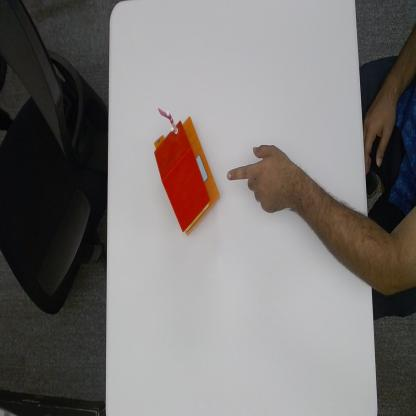Arm: (295, 166, 368, 302)
Hand: (228, 147, 295, 213)
House: (152, 103, 221, 243)
